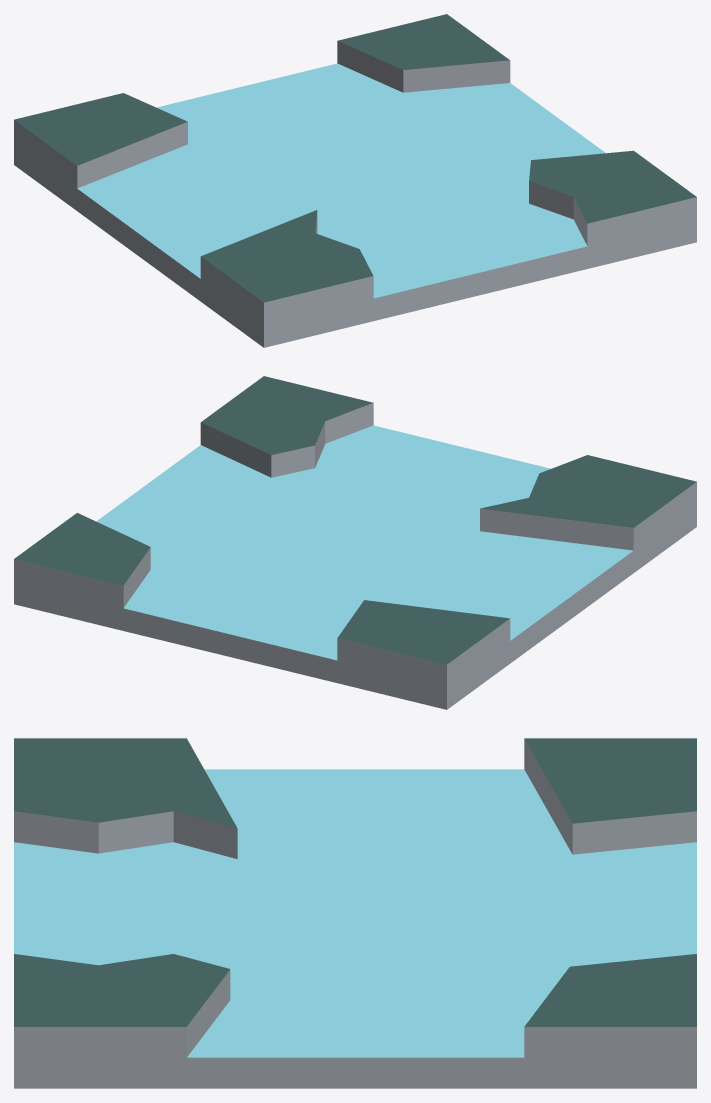
Rendered from Plate_River_4way_01.obj.
3 renders of one model, top to bottom at view 1: azimuth 30°, elevation 25°; view 2: azimuth 150°, elevation 25°; view 3: azimuth 270°, elevation 25°, orthographic. The views are drawn at different scales.
Visible parts, largest first — view 1: Mesh1_Plate_River_Dirt_Model.007; view 2: Mesh1_Plate_River_Dirt_Model.007; view 3: Mesh1_Plate_River_Dirt_Model.007.
Boxes of the visible parts, x1,y1,x2,y2 form: Mesh1_Plate_River_Dirt_Model.007: (14,14,696,347); Mesh1_Plate_River_Dirt_Model.007: (14,376,696,709); Mesh1_Plate_River_Dirt_Model.007: (14,738,696,1088).
Size of the model in its own units: 3 by 0.3 by 3.
